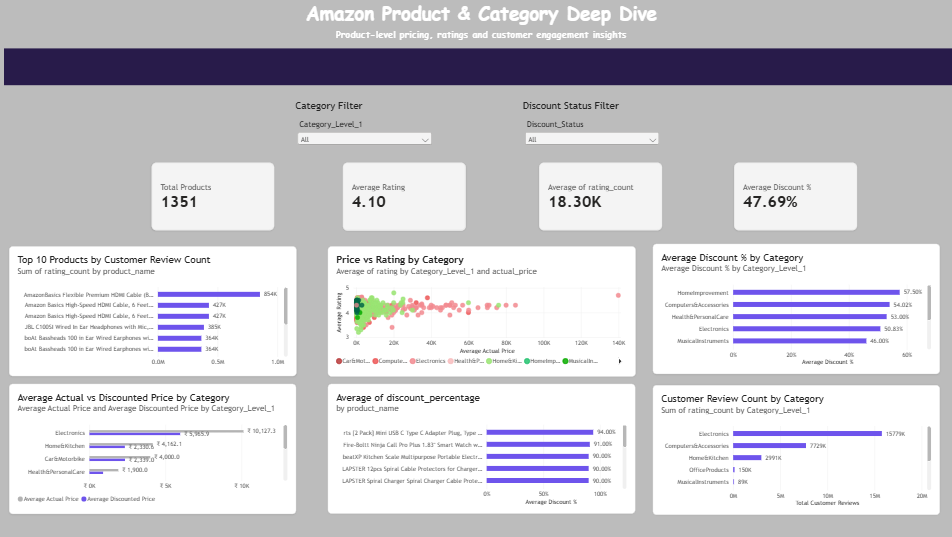

The page's visual inventory and layout, read from the dashboard file:
{"tool":"powerbi","page":{"name":"04_Product & Category Deep Dive","canvas":[1920,1080],"ordinal":3},"visuals":[{"type":"shape","title":"Amazon Product & Category Deep Dive","box":[10.4,0,1909.6,170],"z":0},{"type":"slicer","title":"Category Filter","fields":{"Values":["Amazon_Raw.Category_Level_1"]},"box":[593.4,200.3,277.8,261.3],"z":1000},{"type":"slicer","title":"Discount Status Filter","fields":{"Values":["Amazon_Raw.Discount_Status"]},"box":[1046.9,200.3,278,291],"z":2000},{"type":"cardVisual","fields":{"Data":["Amazon_Raw.Total Products"]},"box":[306.1,325,245.7,136.1],"z":3000},{"type":"cardVisual","fields":{"Data":["Amazon_Raw.Average Rating"]},"box":[687.9,325,246,136.5],"z":4000},{"type":"clusteredBarChart","title":"Top 10 Products by Customer Review Count","fields":{"Category":["Amazon_Raw.product_name"],"Y":["Sum(Amazon_Raw.rating_count)"]},"box":[18.9,491.3,575,260],"z":6000},{"type":"scatterChart","title":"Price vs Rating by Category","fields":{"Series":["Amazon_Raw.Category_Level_1"],"X":["Amazon_Raw.actual_price"],"Y":["Avg(Amazon_Raw.rating)"]},"box":[657.6,491.3,616.1,260.8],"z":7000},{"type":"clusteredBarChart","title":"Average Discount % by Category","fields":{"Category":["Amazon_Raw.Category_Level_1"],"Y":["Amazon_Raw.Average Discount %"]},"box":[1307.7,487.6,574,261],"z":8000},{"type":"clusteredBarChart","title":"Average Actual vs Discounted Price by Category","fields":{"Category":["Amazon_Raw.Category_Level_1"],"Y":["Amazon_Raw.Average Actual Price","Amazon_Raw.Average Discounted Price"]},"box":[18.9,767.2,574,261],"z":9000},{"type":"clusteredBarChart","fields":{"Category":["Amazon_Raw.product_name"],"Y":["Avg(Amazon_Raw.discount_percentage)"]},"box":[657.6,767.2,615,260],"z":10000},{"type":"clusteredBarChart","title":"Customer Review Count by Category","fields":{"Category":["Amazon_Raw.Category_Level_1"],"Y":["Sum(Amazon_Raw.rating_count)"]},"box":[1307.7,771,574,260],"z":11000},{"type":"cardVisual","fields":{"Data":["Avg(Amazon_Raw.rating_count)"]},"box":[1080.9,325,246,136.1],"z":12000},{"type":"cardVisual","fields":{"Data":["Amazon_Raw.Average Discount %"]},"box":[1470.2,325,246,136.1],"z":13000}]}

Visuals, with their boxes in screenshot pixels (x1, y1, x2, y2), scaled from the page's 1920x1080 canvas onto the 952x537 screenshot:
"Amazon Product & Category Deep Dive" shape: (5,0,951,85)
"Category Filter" slicer: (294,100,432,230)
"Discount Status Filter" slicer: (519,100,657,244)
cardVisual - Amazon_Raw.Total Products: (152,162,274,229)
cardVisual - Amazon_Raw.Average Rating: (341,162,463,229)
"Top 10 Products by Customer Review Count" clusteredBarChart: (9,244,294,374)
"Price vs Rating by Category" scatterChart: (326,244,632,374)
"Average Discount % by Category" clusteredBarChart: (648,242,933,372)
"Average Actual vs Discounted Price by Category" clusteredBarChart: (9,381,294,511)
clusteredBarChart - Amazon_Raw.product_name x Avg(Amazon_Raw.discount_percentage): (326,381,631,511)
"Customer Review Count by Category" clusteredBarChart: (648,383,933,513)
cardVisual - Avg(Amazon_Raw.rating_count): (536,162,658,229)
cardVisual - Amazon_Raw.Average Discount %: (729,162,851,229)
